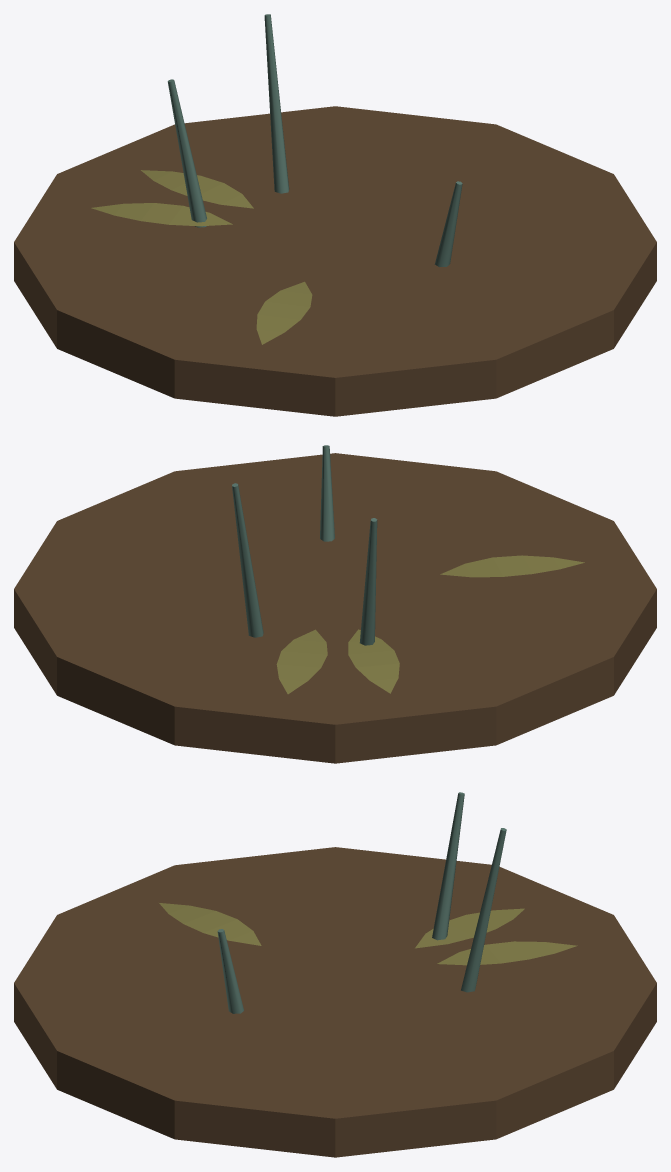
Rendered from splitterlilie-geerntet.glb.
3 views of the same model, one above another, from view 1: azimuth 30°, elevation 25°; view 2: azimuth 150°, elevation 25°; view 3: azimuth 270°, elevation 25° (orthographic).
Visible parts, largest first — view 1: splitterlilie; view 2: splitterlilie; view 3: splitterlilie.
Part boxes in pixels (x1,y1,x2,y2): splitterlilie: (14, 14, 656, 416); splitterlilie: (14, 445, 656, 763); splitterlilie: (14, 792, 656, 1157).
Bounding box in the file's own units: 0.3 × 0.1034 × 0.3.
